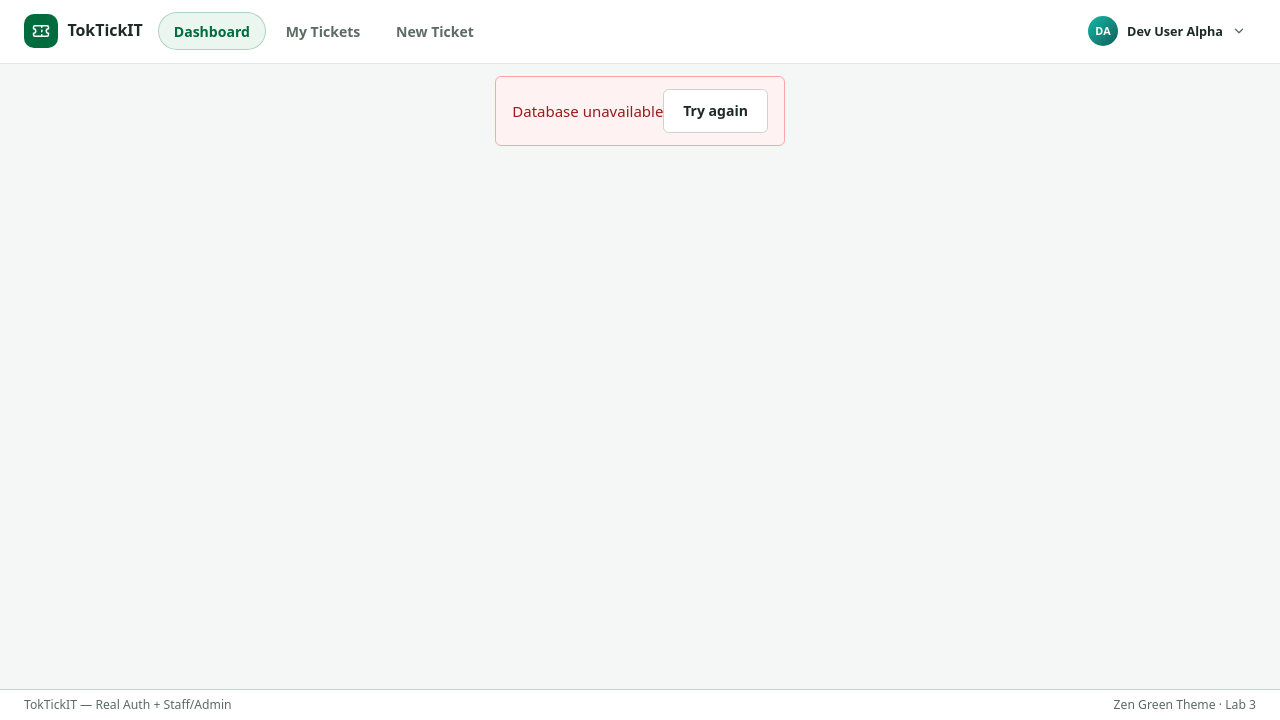
Test case: Requester Dashboard UI (L4-5, UI-07) › renders safe error state with retry button on failure
The image size is (1280, 720).
Expected: the message shows "Database unavailable", x1=512 y1=100 x2=663 y2=120
Click the button "Try again" at (716, 111), box x1=663 y1=89 x2=768 y2=133
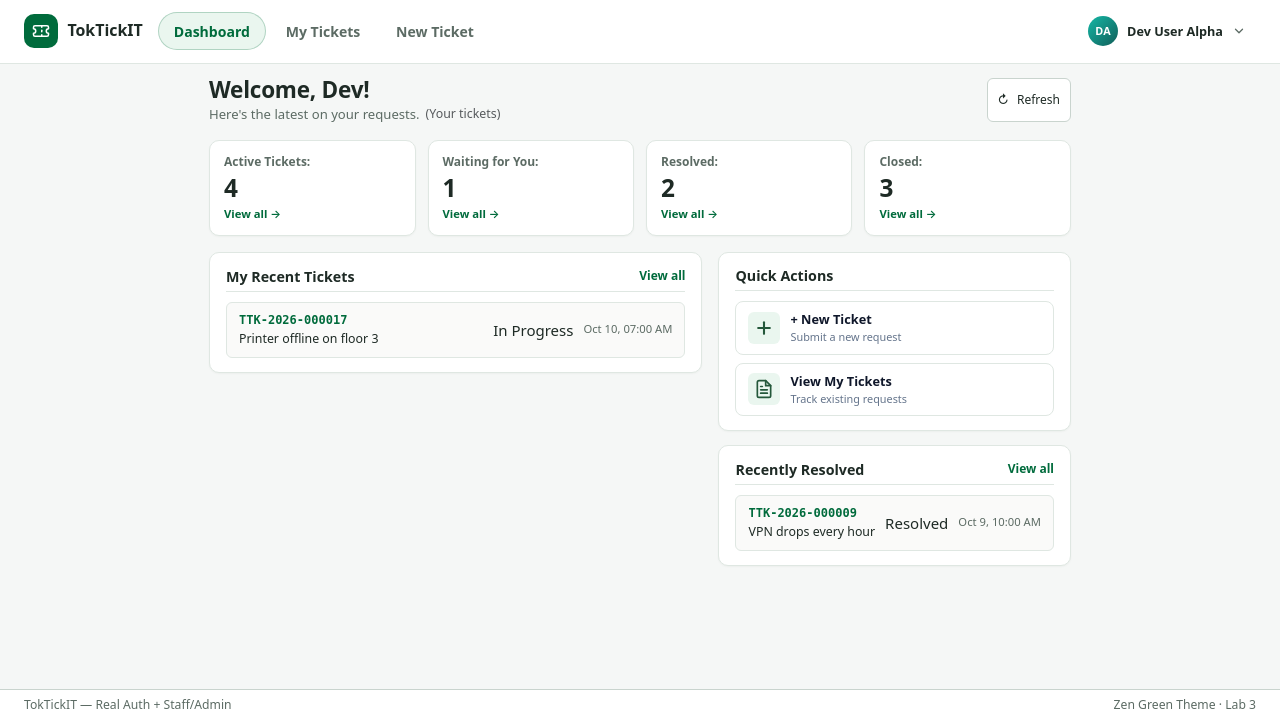
Expected: the text "Printer offline on floor 3" is shown, x1=239 y1=330 x2=378 y2=347
